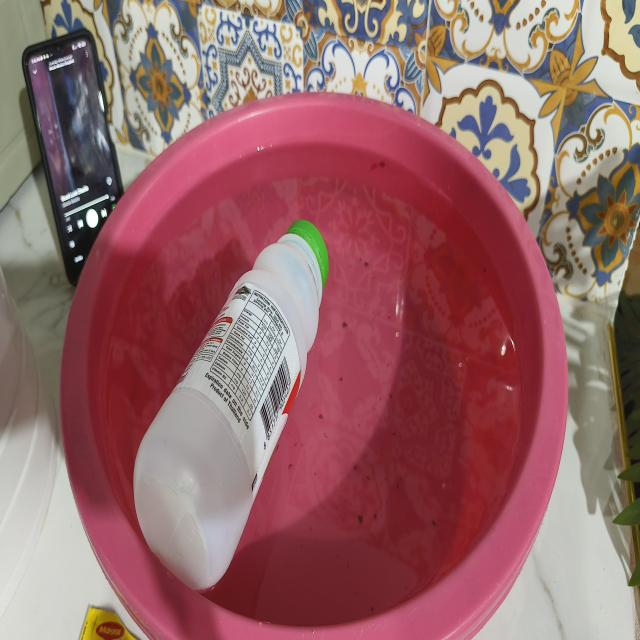Plastic Bottle: (134, 220, 329, 590)
